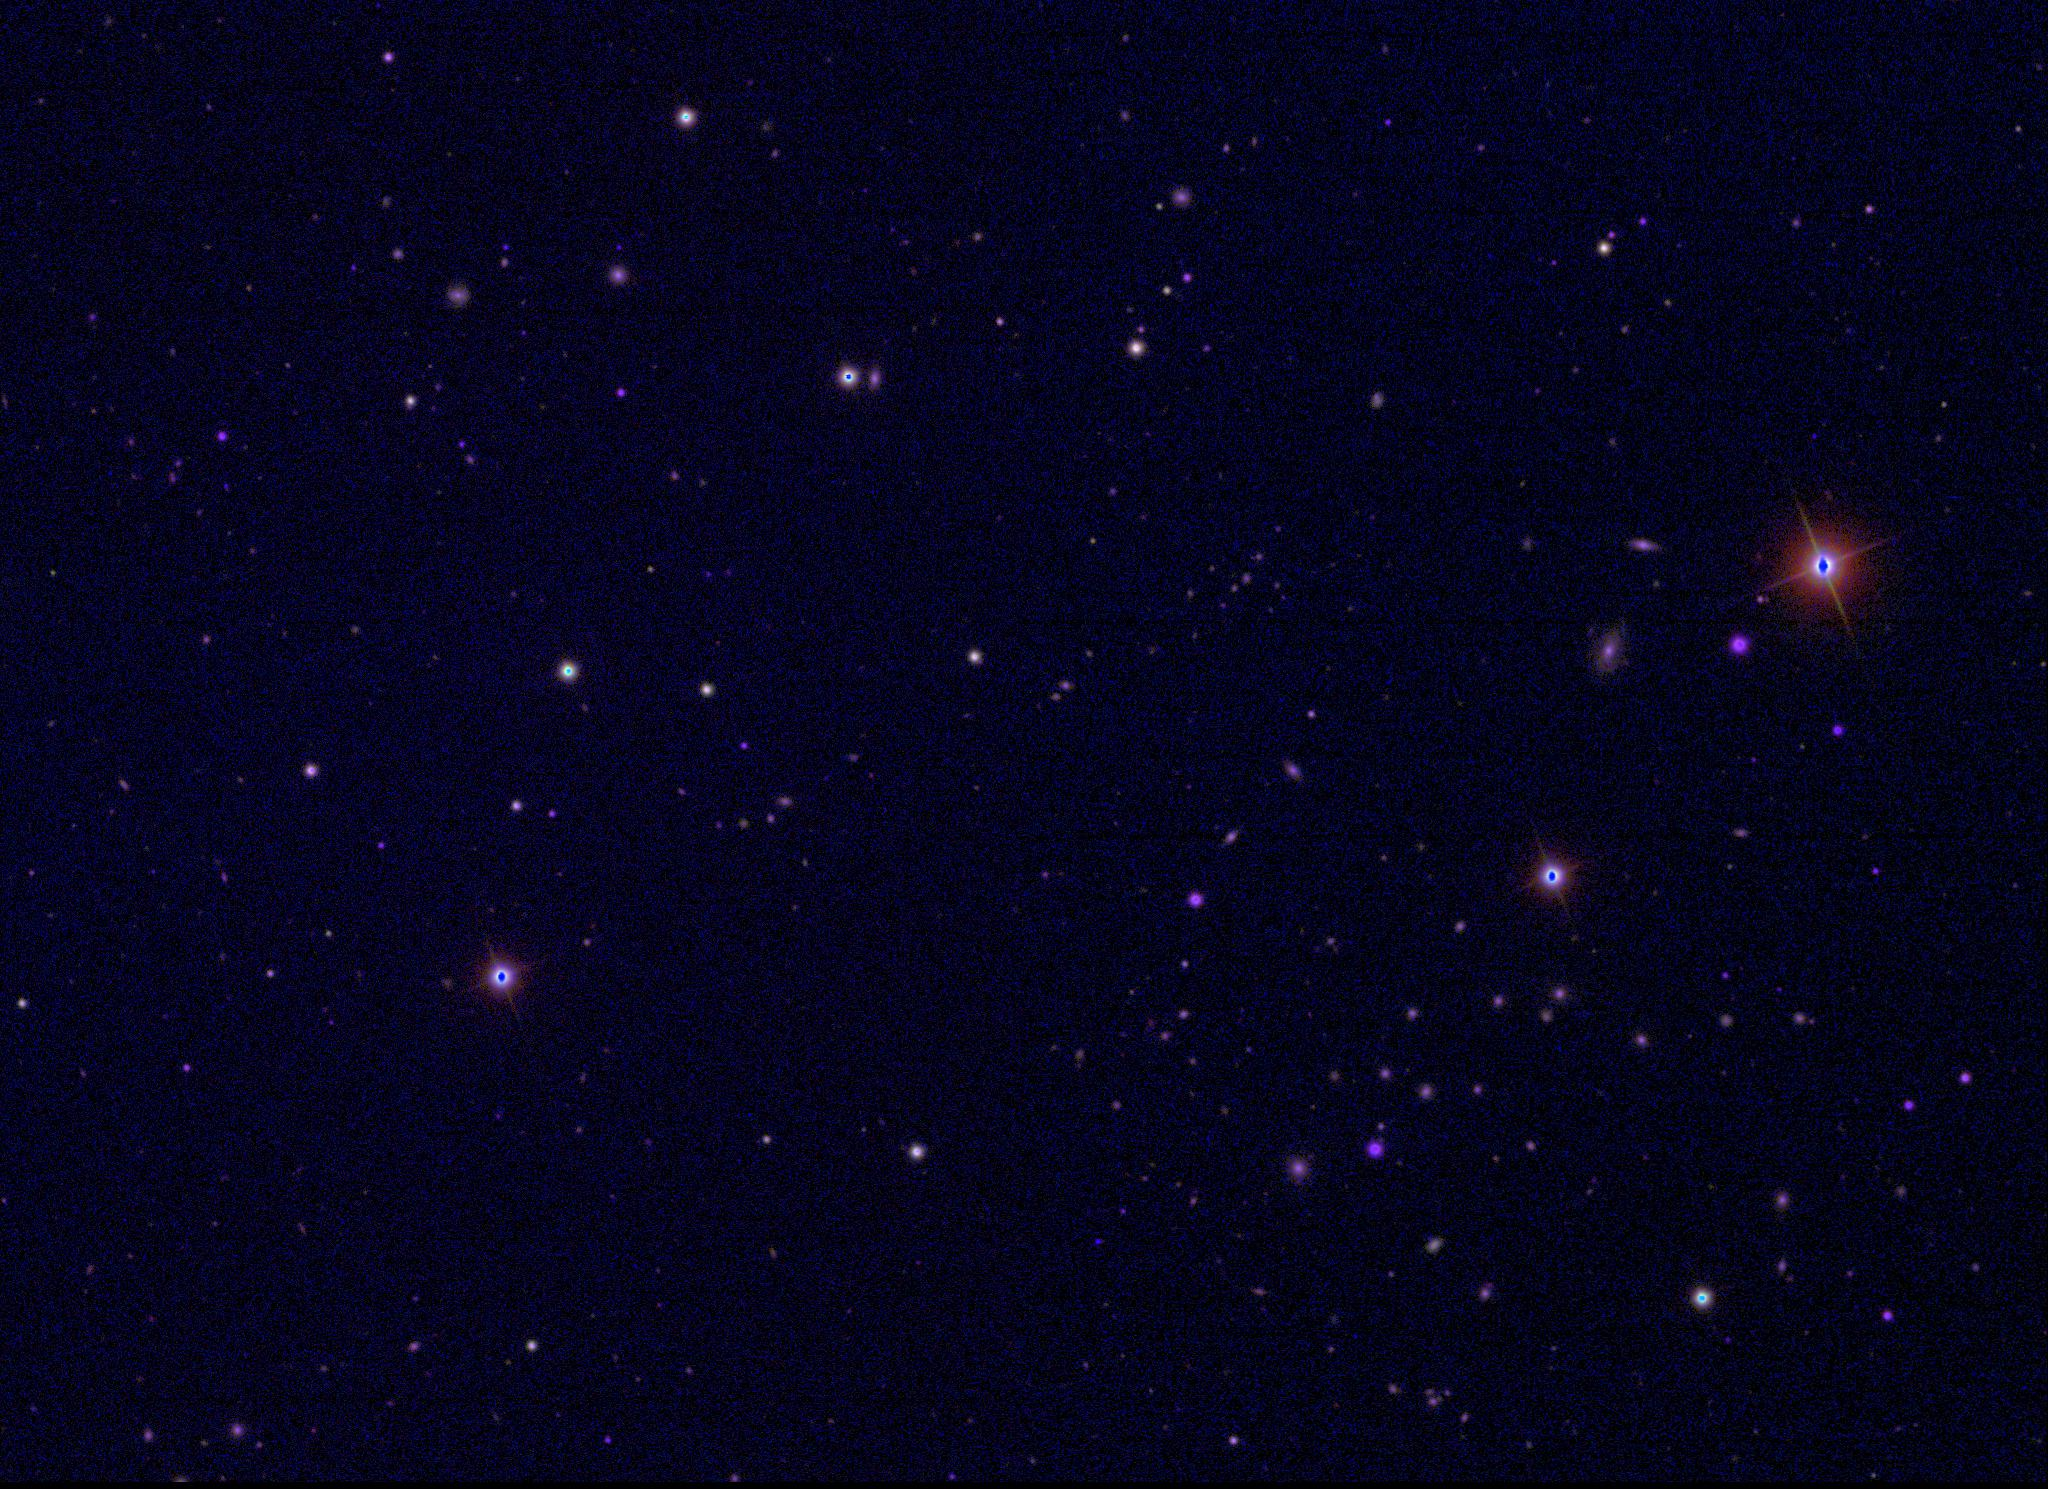L: (1091, 1234, 1104, 1249)
